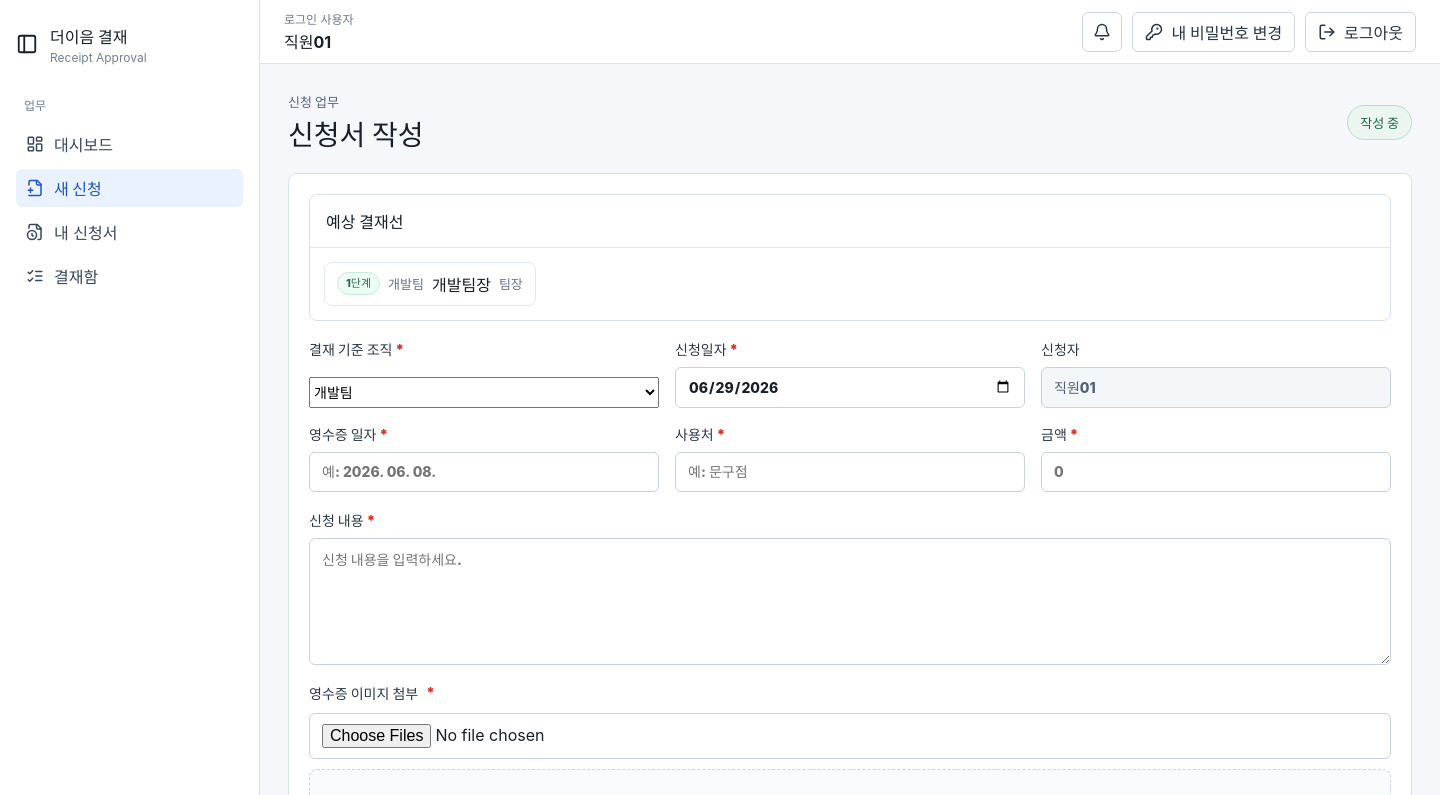
ApplicationForm › 조직 선택을 변경하면 선택 조직으로 예상 결재선을 다시 조회한다
The width and height of the screenshot is (1440, 795).
Expected: the text "개발팀장" is shown, [432,272,491,296]
Select "재무팀" in the dropdown labelled "결재 기준 조직 *" at coordinates (484, 392), box [309,377,659,408]
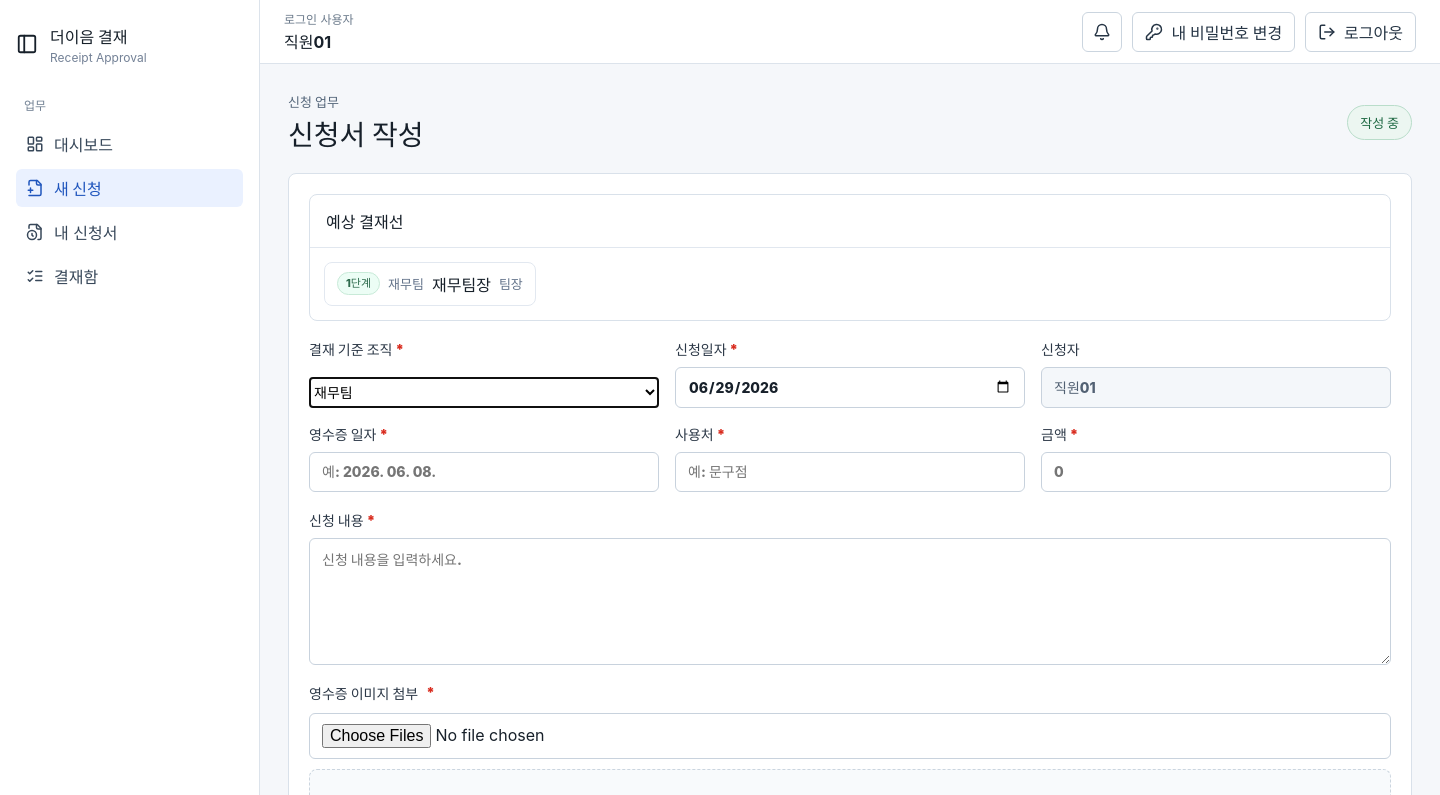
Result: the text "재무팀장" is shown at [432,272,491,296]
